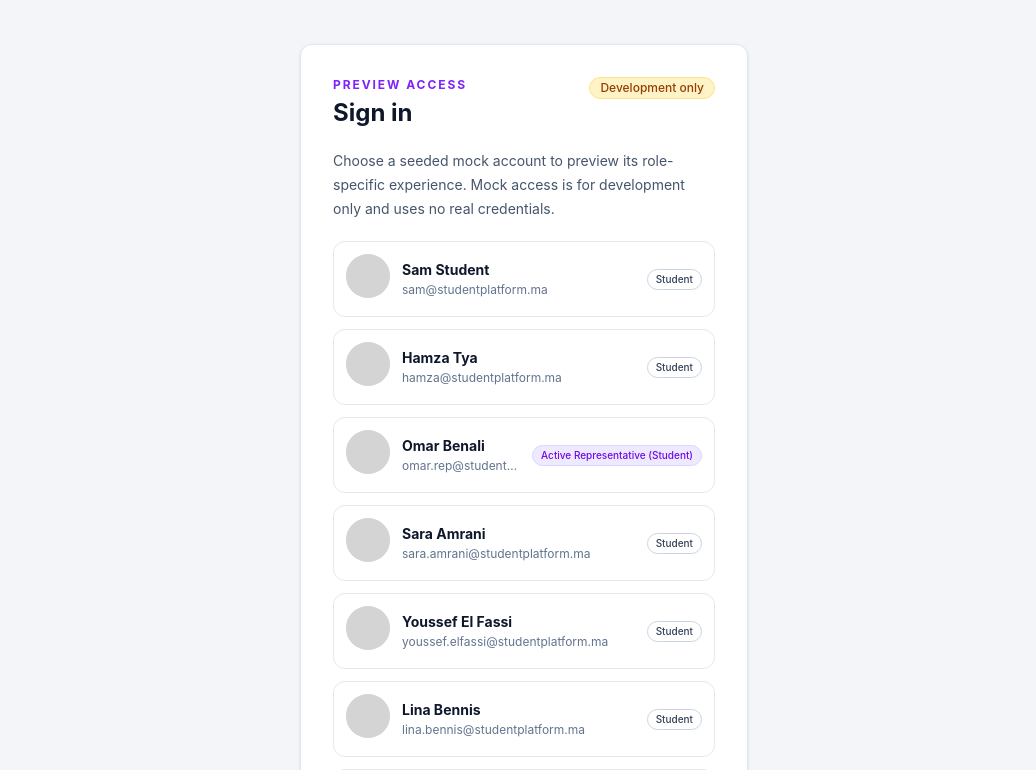
MockLoginPage › keeps an active Representative authenticated as a Student
Step 1. Click the button that starts with "Omar Benali" → click(524, 455), box [333,417,715,493]
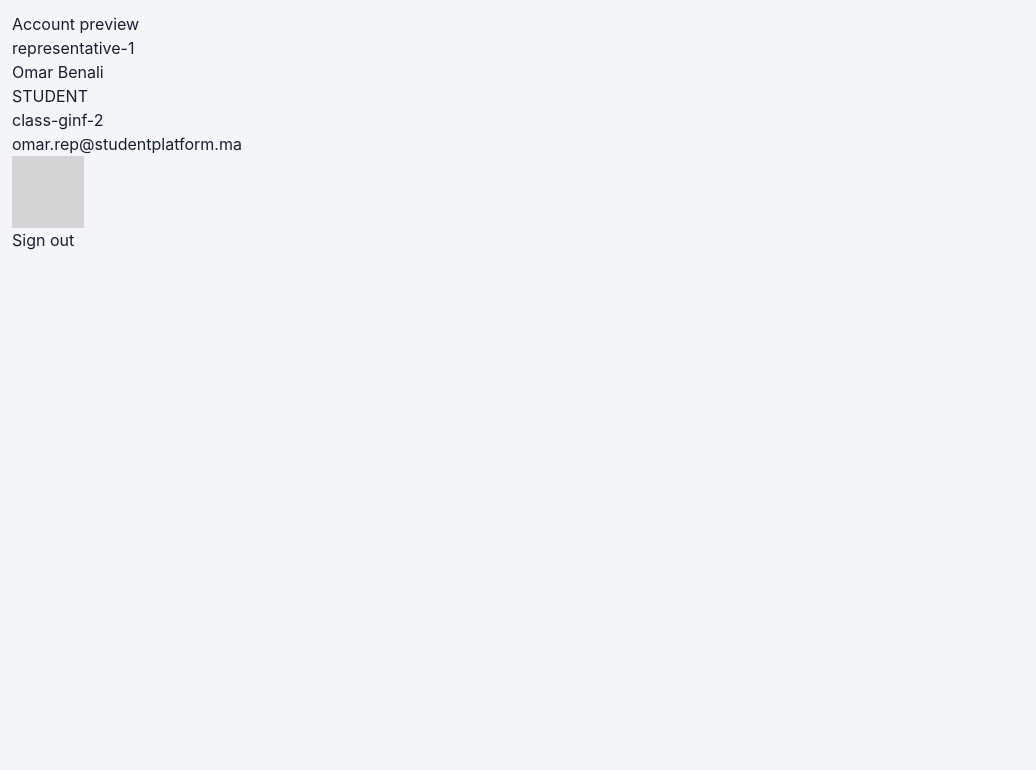
Expected: the text "STUDENT" is shown, [12,86,88,106]
Expected: the text "representative-1" is shown, [12,38,134,58]
Expected: the text "class-ginf-2" is shown, [12,110,103,130]
